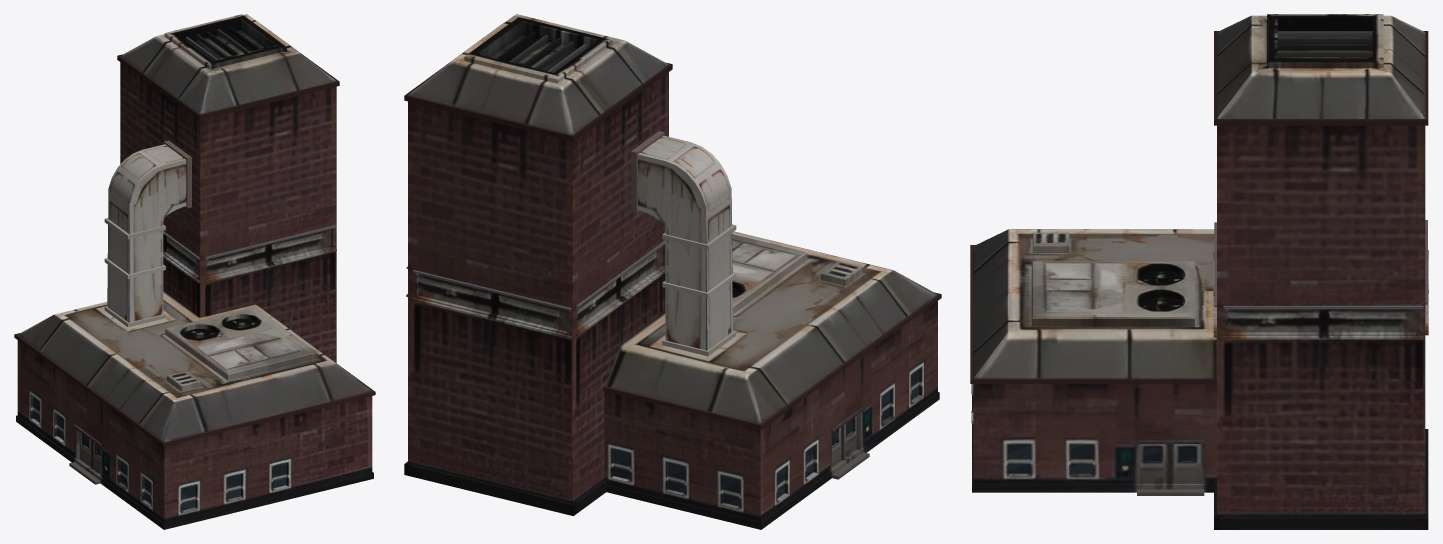
The model's file is industrialplant_cad.glb.
The picture shows the model from 3 angles, left to right: view 1: azimuth 30°, elevation 25°; view 2: azimuth 150°, elevation 25°; view 3: azimuth 270°, elevation 25°; orthographic projection. The views are drawn at different scales.
Visible parts, largest first — view 1: IndustrialPlant; view 2: IndustrialPlant; view 3: IndustrialPlant.
Part boxes in pixels (x1,y1,x2,y2): IndustrialPlant: (14, 14, 375, 529); IndustrialPlant: (404, 14, 941, 529); IndustrialPlant: (970, 14, 1428, 529).
Size of the model in its own units: 17.26 by 20.63 by 19.18.
1 material, 1 textured.
